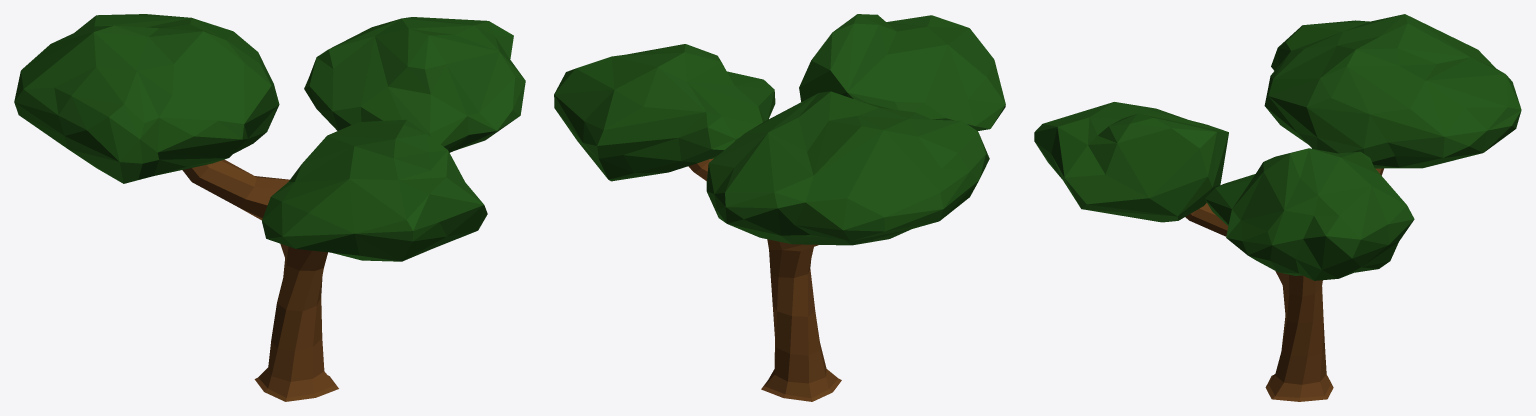
Rendered from 2020-09-08 WorldObjects.fbx_Tree1.fbx.
3 views of the same model, side by side, from view 1: azimuth 30°, elevation 25°; view 2: azimuth 150°, elevation 25°; view 3: azimuth 270°, elevation 25° (orthographic). The views are drawn at different scales.
Visible parts, largest first — view 1: Tree 1; view 2: Tree 1; view 3: Tree 1.
Boxes of the visible parts, left/top/right/bottom form: Tree 1: left=14, top=14, right=525, bottom=401; Tree 1: left=554, top=14, right=1005, bottom=401; Tree 1: left=1034, top=14, right=1521, bottom=401.
Size of the model in its own units: 15.84 by 11.67 by 16.58.
